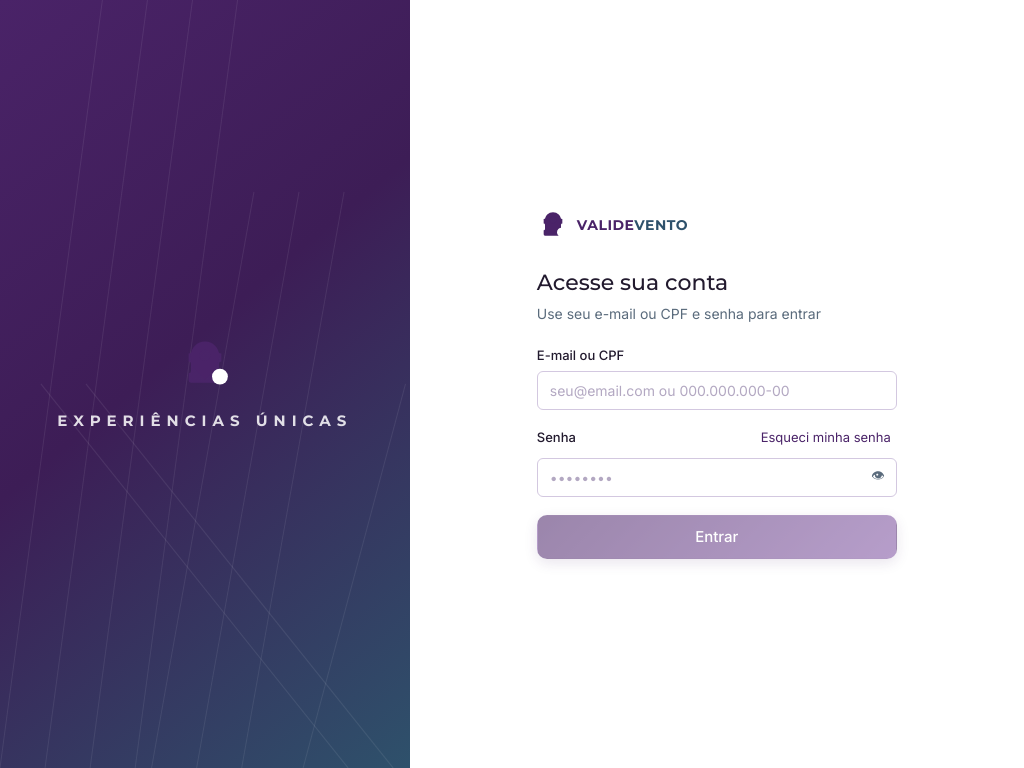
it: Login › T-login-1: aplica máscara no CPF
The image size is (1024, 768).
Type "11122233344" into the field labelled "E-mail ou CPF" at (717, 391), box [537,371,897,410]
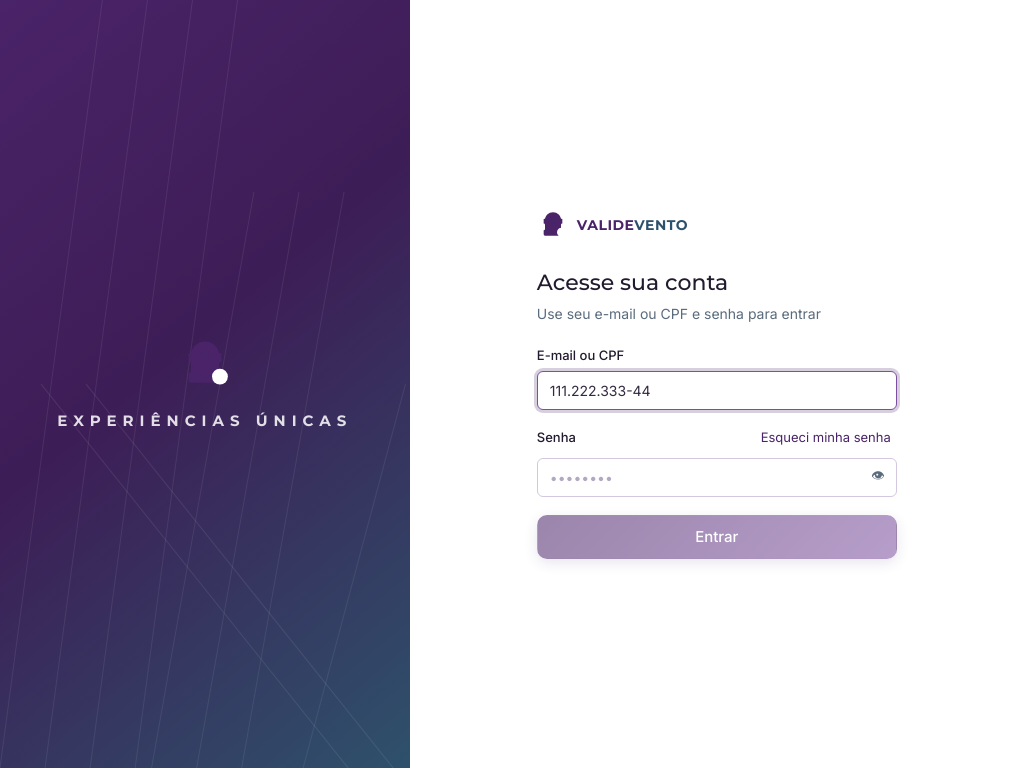
Check: the field labelled "E-mail ou CPF" holds "111.222.333-44", box [537,371,897,410]
